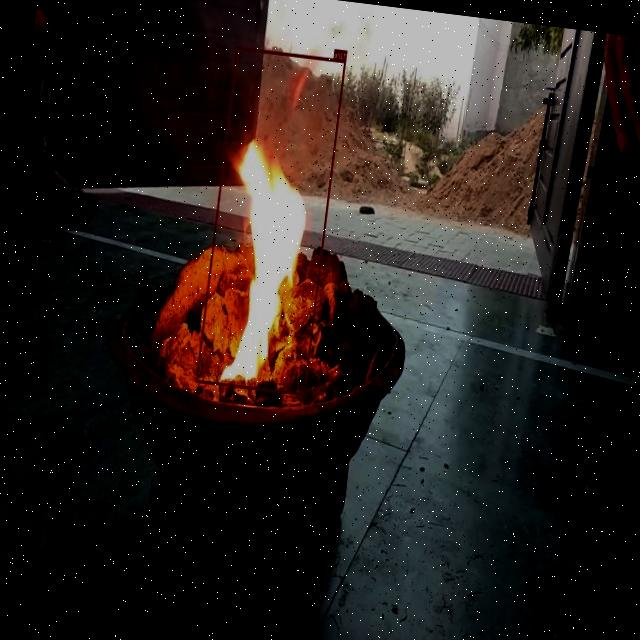fire: (196, 47, 346, 396)
